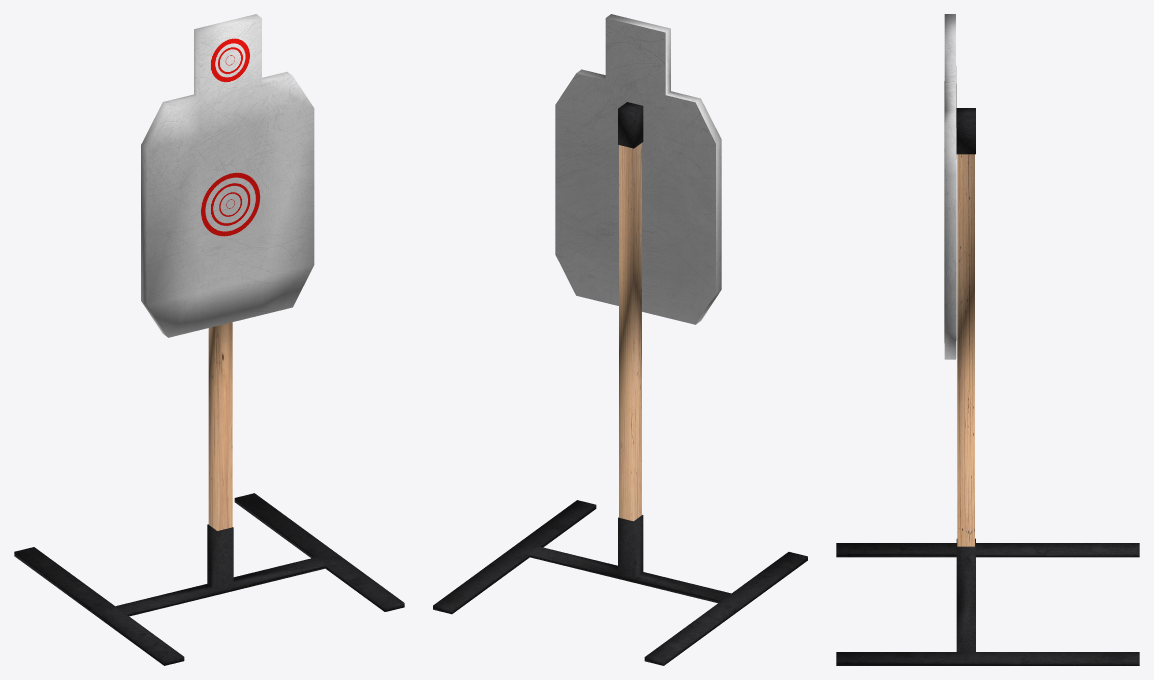
File: SteelTarget.fbx
3 views of the same model, side by side, from view 1: azimuth 30°, elevation 25°; view 2: azimuth 150°, elevation 25°; view 3: azimuth 270°, elevation 25° (orthographic). The views are drawn at different scales.
Visible parts, largest first — view 1: TargetHuman; view 2: TargetHuman; view 3: TargetHuman.
Part boxes in pixels (x1,y1,x2,y2): TargetHuman: [14, 14, 404, 665]; TargetHuman: [433, 14, 807, 665]; TargetHuman: [836, 14, 1139, 665].
Size of the model in its own units: 2.31 by 5.26 by 2.5.
